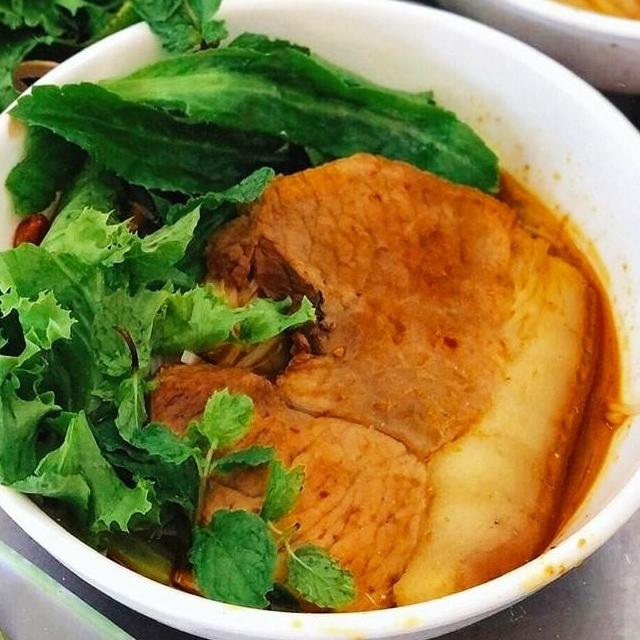thit heo: (124, 145, 606, 624)
